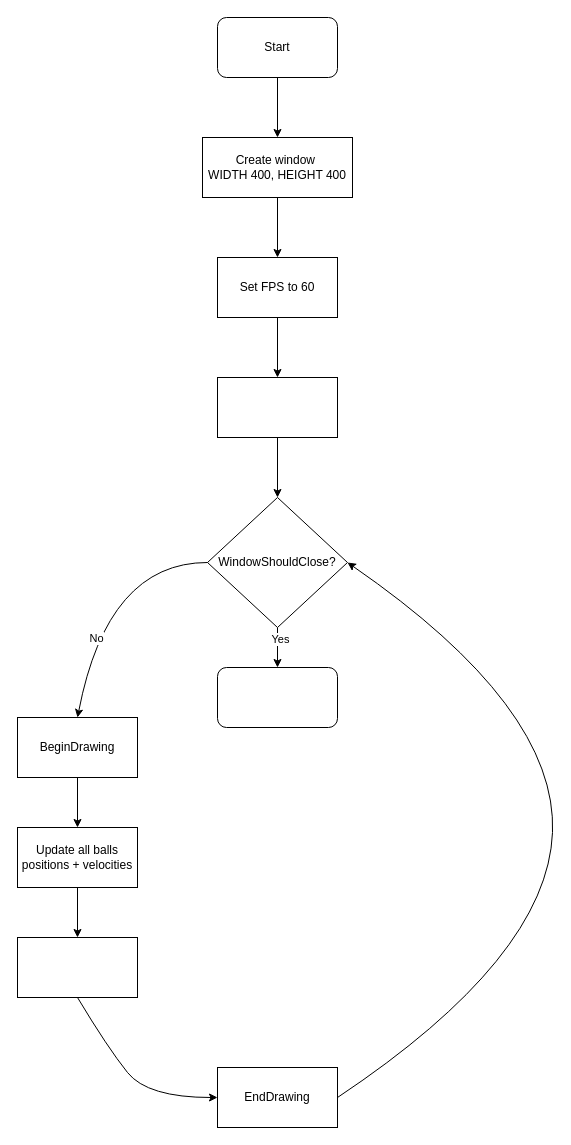
This 571x1145 diagram has some shape labels left out. The centre of each missing label's shape, as x and y in pixels:
Clear Background RAYWHITE: the point at 77,967
End: the point at 277,697
Initialize all balls randomly: the point at 277,407
